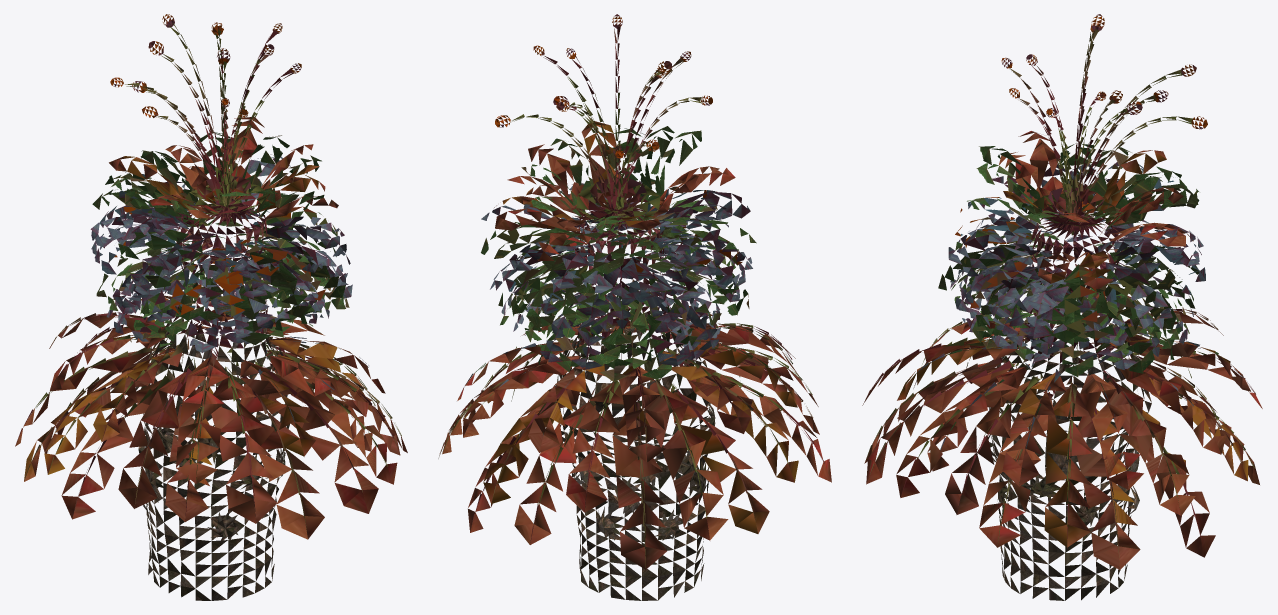
File: Plant - Alien Plant 16-s8L1cYpd.glb
The picture shows the model from 3 angles, left to right: view 1: azimuth 30°, elevation 25°; view 2: azimuth 150°, elevation 25°; view 3: azimuth 270°, elevation 25°; orthographic projection.
Parts seen in each view (by area): view 1: Plant16(Clone); view 2: Plant16(Clone); view 3: Plant16(Clone).
Part boxes in pixels (left/top/right/bottom): Plant16(Clone): left=15, top=14, right=407, bottom=600; Plant16(Clone): left=438, top=14, right=831, bottom=600; Plant16(Clone): left=862, top=14, right=1262, bottom=600.
Bounding box in the file's own units: 3.19 × 4.78 × 3.22.
Materials: 2 (2 with a texture image).
